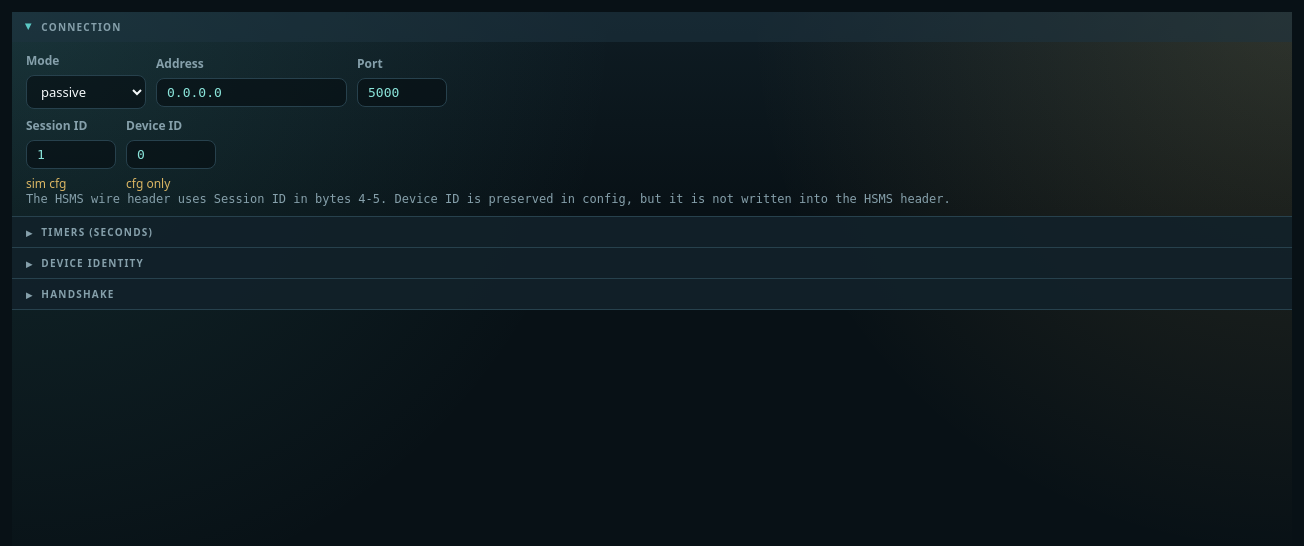
Test: HsmsTab › shows clearly differentiated startup profile options
Click the text "Handshake": (78, 294) x1=41 y1=287 x2=115 y2=301
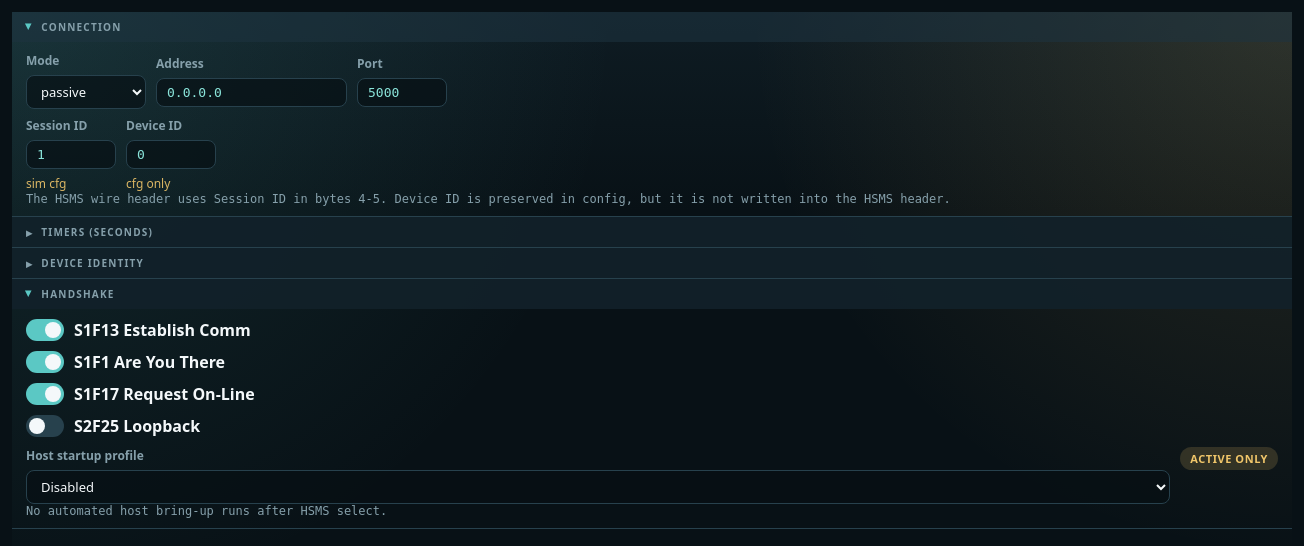
Expected: the text "Host startup profile" is shown, x1=26 y1=447 x2=144 y2=464
Expected: the text "S1F17 Request On-Line" is shown, x1=74 y1=383 x2=255 y2=405
Expected: the text "No automated host bring-up runs after HSMS select." is shown, x1=26 y1=504 x2=387 y2=518
